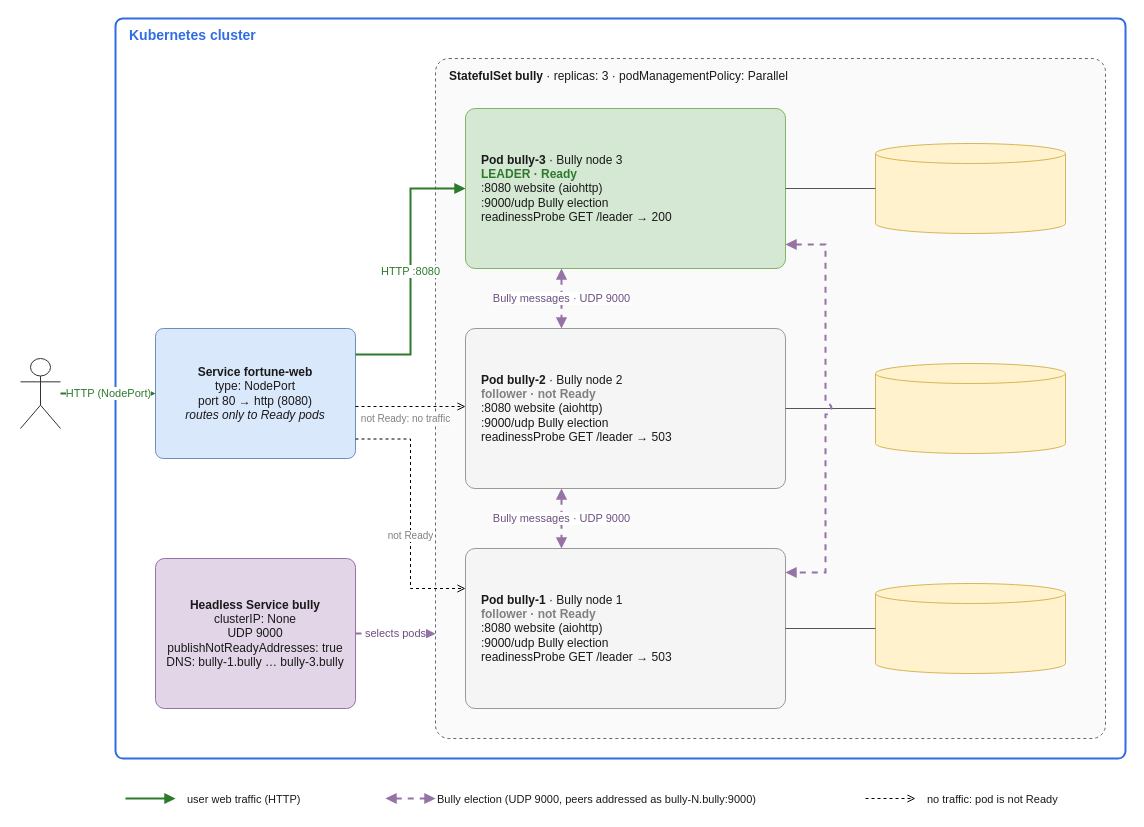
This 1144x827 diagram has some shape labels left out. Here are the shapes that lost their labels. From the top down, the centre of each, then its label:
At (970,188): "PVC state-bully-3 /data/node3.json Bully state vector".
At (40,393): "User (browser or test client)".
At (970,408): "PVC state-bully-2 /data/node2.json Bully state vector".
At (970,628): "PVC state-bully-1 /data/node1.json Bully state vector".
